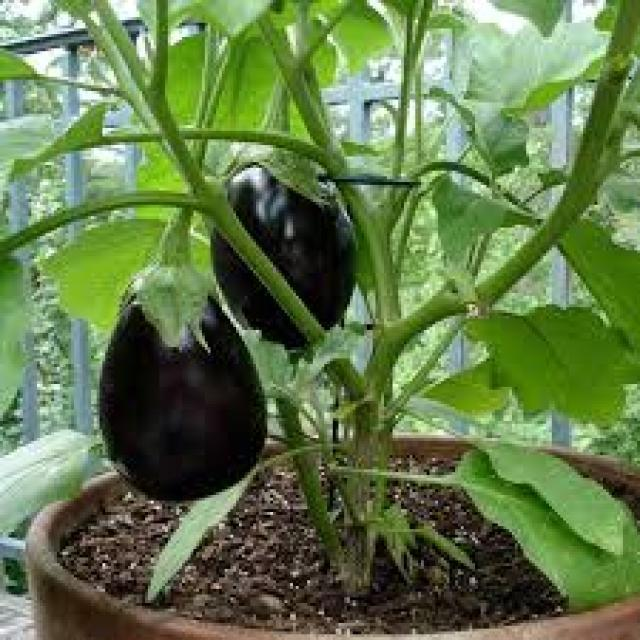Eggplant: (211, 72, 361, 344), (96, 301, 268, 506)
